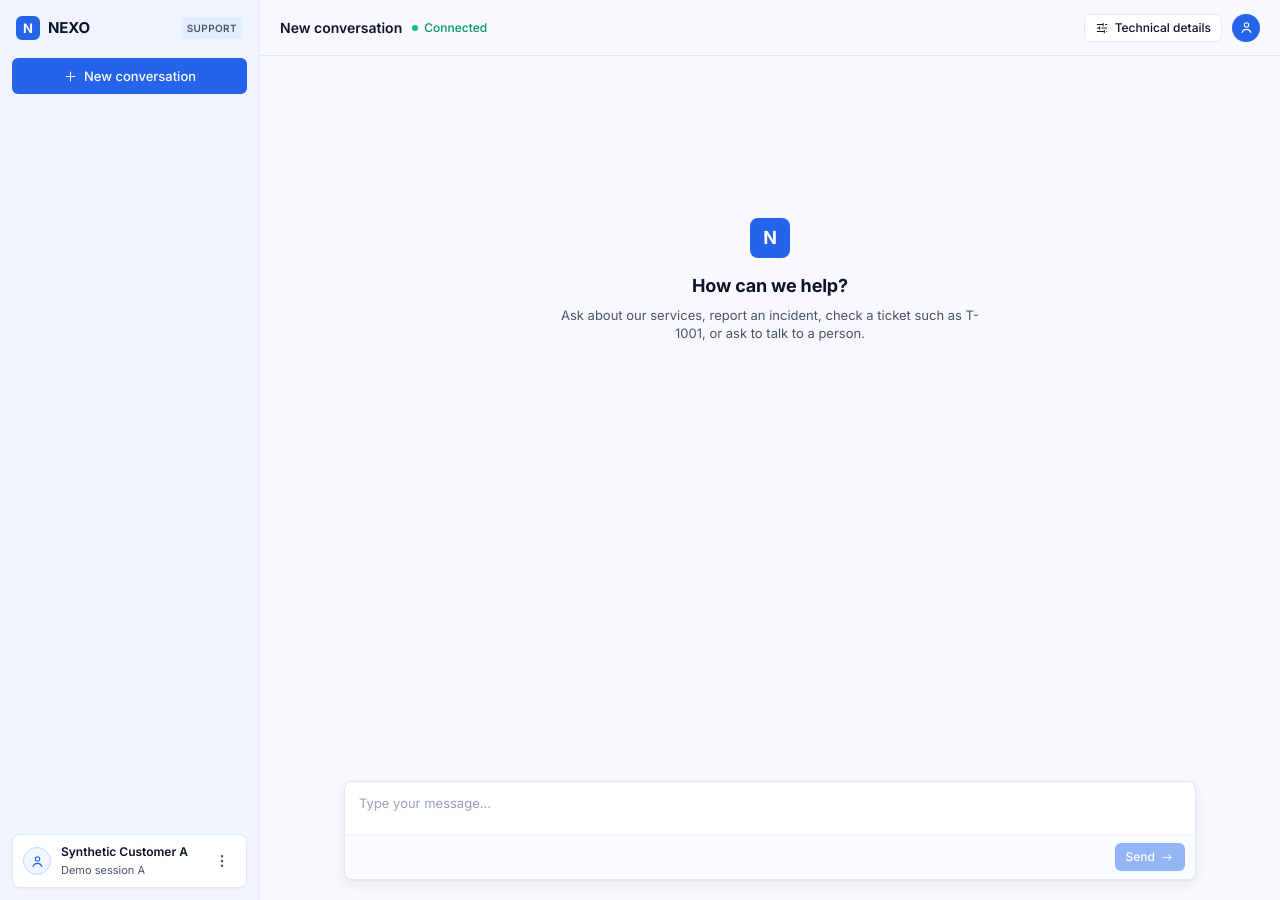
Test case: UI-01 evaluation client › renders the draft card and keeps the confirmation token out of the DOM
Type "Estamos sin internet" into the text box labelled "message" at coordinates (770, 808), box x1=345 y1=782 x2=1195 y2=834
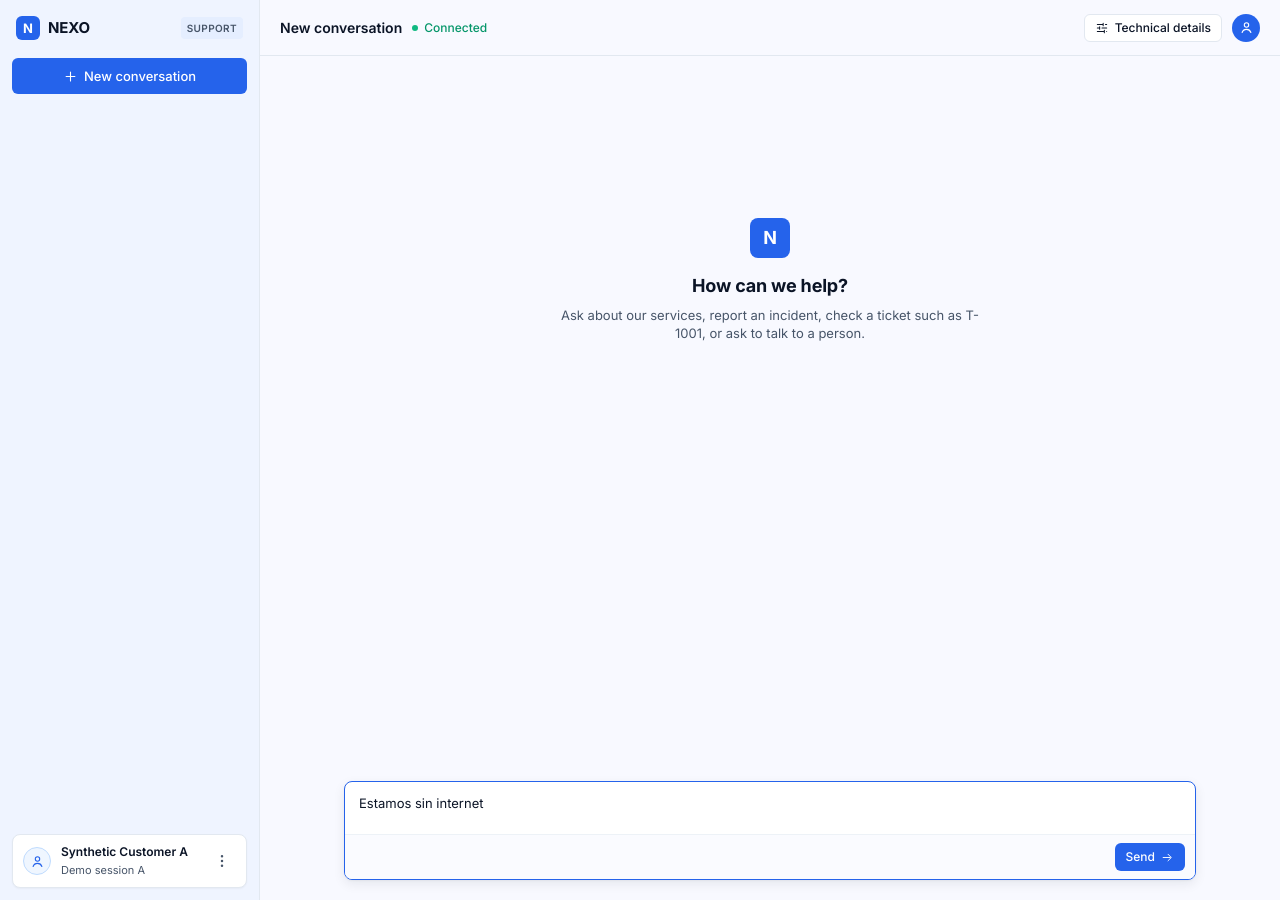
Click the button "Send" at coordinates (1150, 857), box x1=1115 y1=843 x2=1185 y2=871
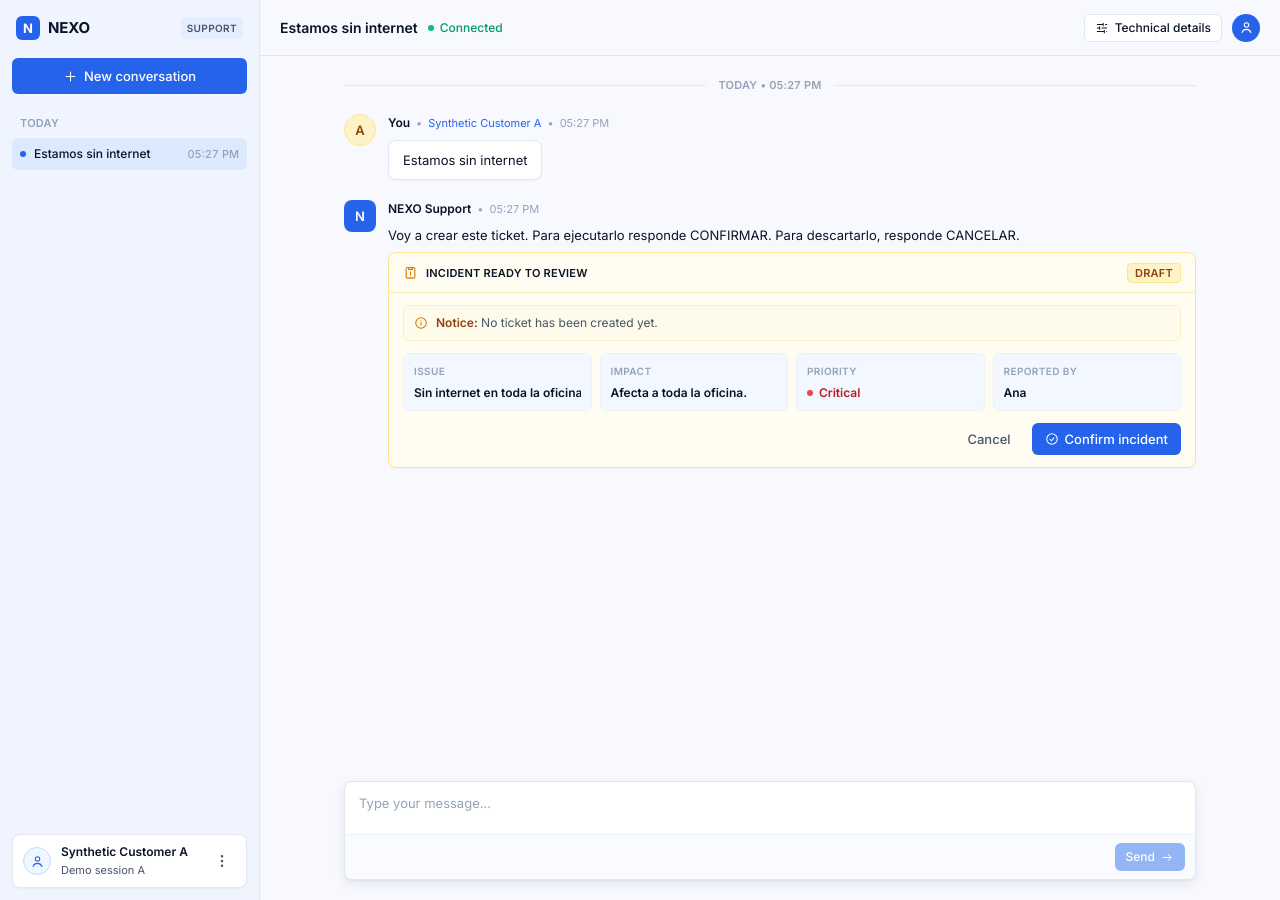
expect the text "No ticket has been created yet." is shown: met, box x1=481 y1=315 x2=658 y2=330
expect the text "Sin internet en toda la oficina" is shown: met, box x1=414 y1=384 x2=580 y2=402
expect the text "Critical" is shown: met, box x1=807 y1=385 x2=860 y2=400
